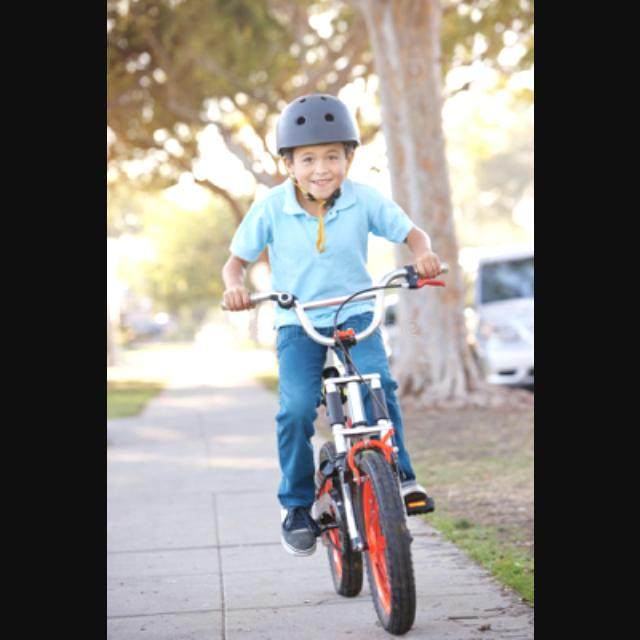With Helmet: (269, 93, 367, 203)
